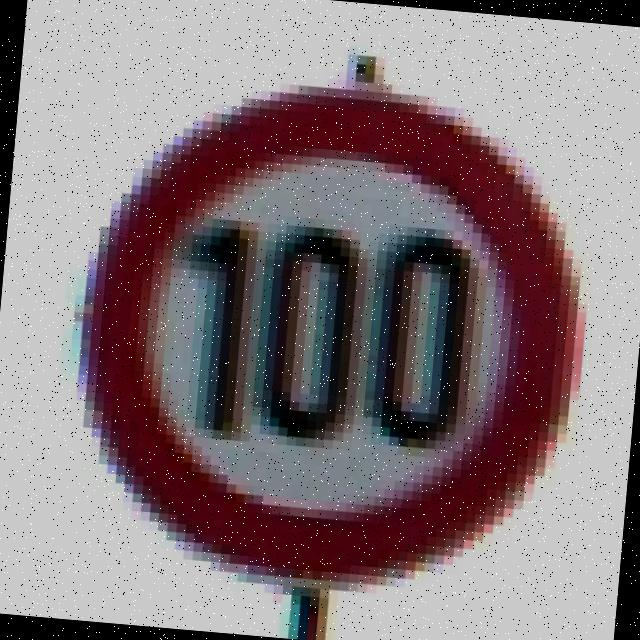Ograniczenie predkosci do 100: (55, 62, 602, 609)
